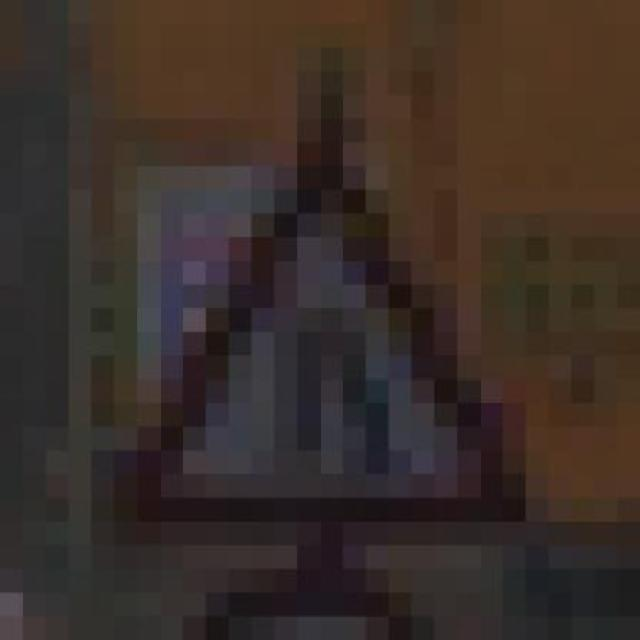-Road narrows on right: (91, 72, 548, 546)
